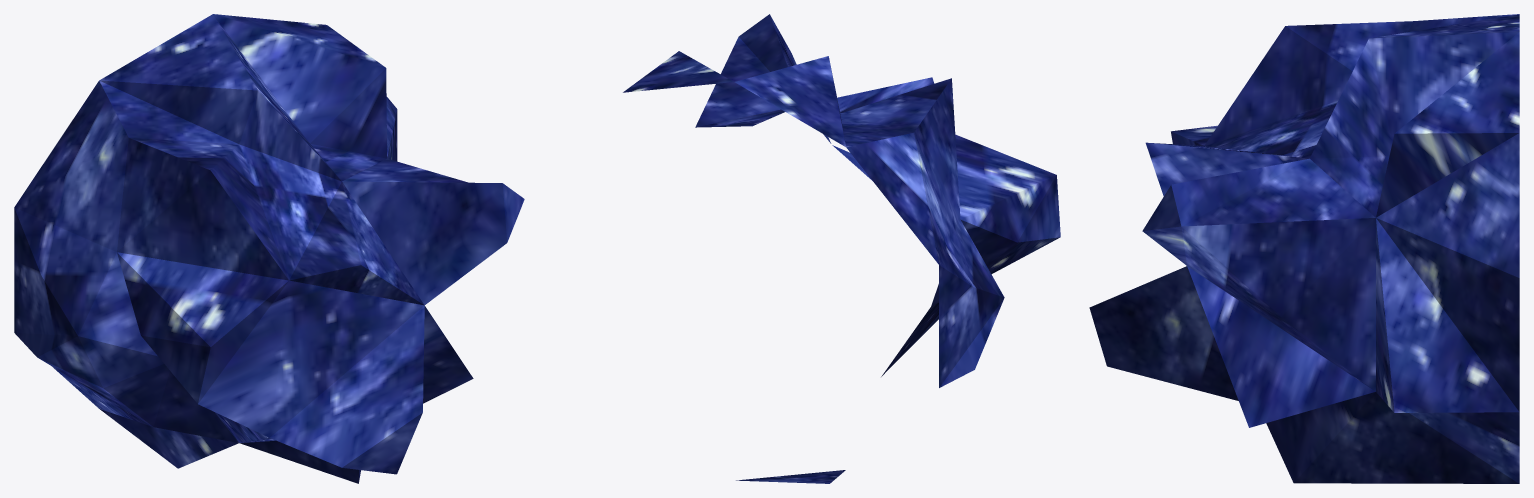
3 renders of one model, left to right at view 1: azimuth 30°, elevation 25°; view 2: azimuth 150°, elevation 25°; view 3: azimuth 270°, elevation 25°, orthographic. The views are drawn at different scales.
Visible parts, largest first — view 1: model_Object55; view 2: model_Object55; view 3: model_Object55.
Part boxes in pixels (<box>): model_Object55: <box>14,14,524,483</box>; model_Object55: <box>623,14,1060,483</box>; model_Object55: <box>1089,14,1519,483</box>.
Size of the model in its own units: 0.8826 by 0.8883 by 0.7787.
1 material, 1 textured.
